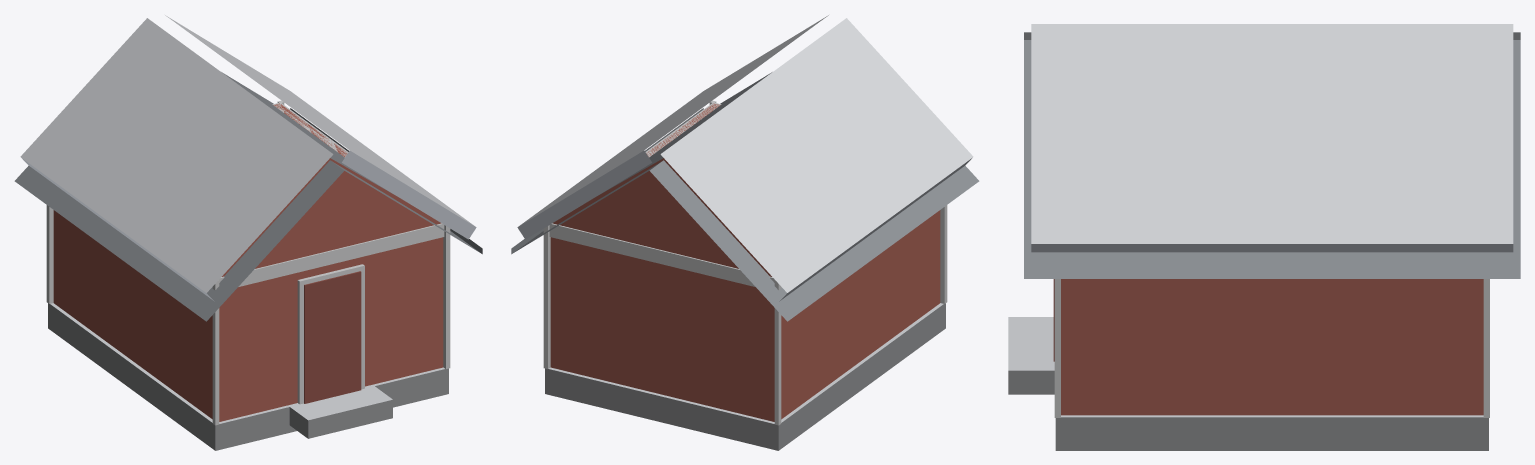
File: aitta.glb
3 views of the same model, side by side, from view 1: azimuth 30°, elevation 25°; view 2: azimuth 150°, elevation 25°; view 3: azimuth 270°, elevation 25° (orthographic). The views are drawn at different scales.
Parts seen in each view (by area): view 1: aitta; view 2: aitta; view 3: aitta.
Part boxes in pixels (<box>): aitta: <box>14,15,482,450</box>; aitta: <box>511,15,979,450</box>; aitta: <box>1008,24,1520,450</box>.
Size of the model in its own units: 3.9 by 3.74 by 4.85.
